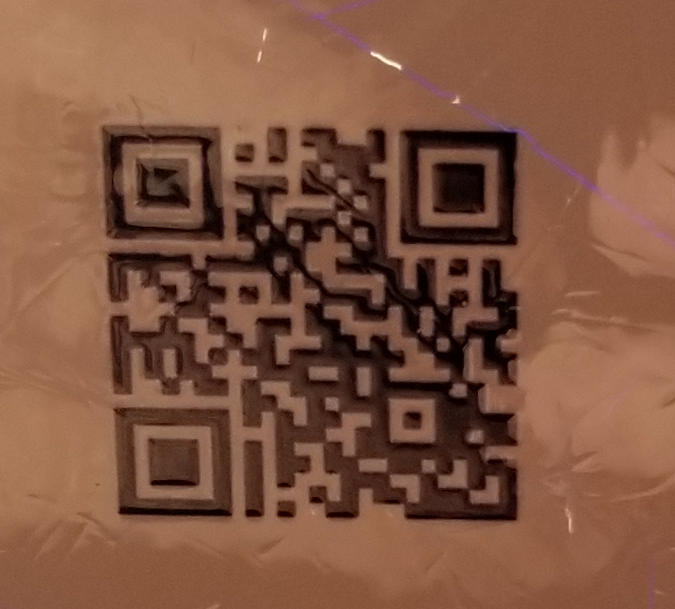QR_CODE: (72, 82, 533, 536)
